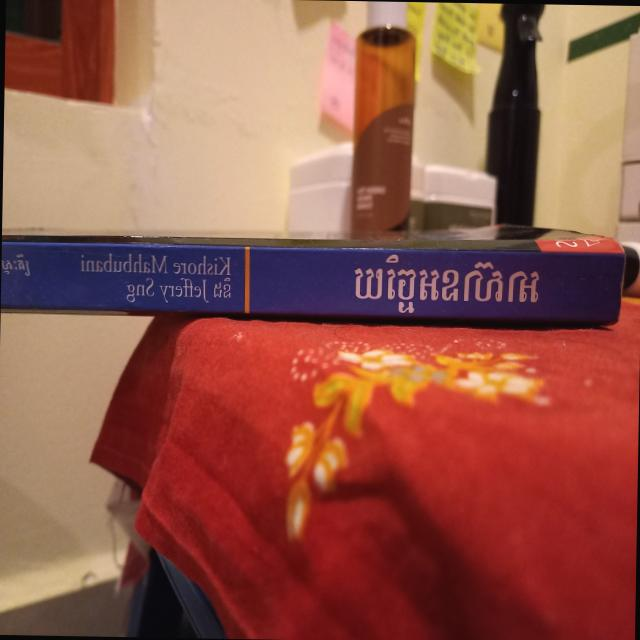Yolov11_80vkh: (338, 252, 548, 319), (11, 248, 31, 279), (211, 276, 235, 301)
